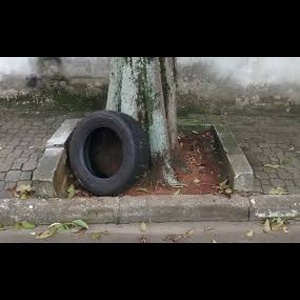tire: (69, 111, 149, 197)
